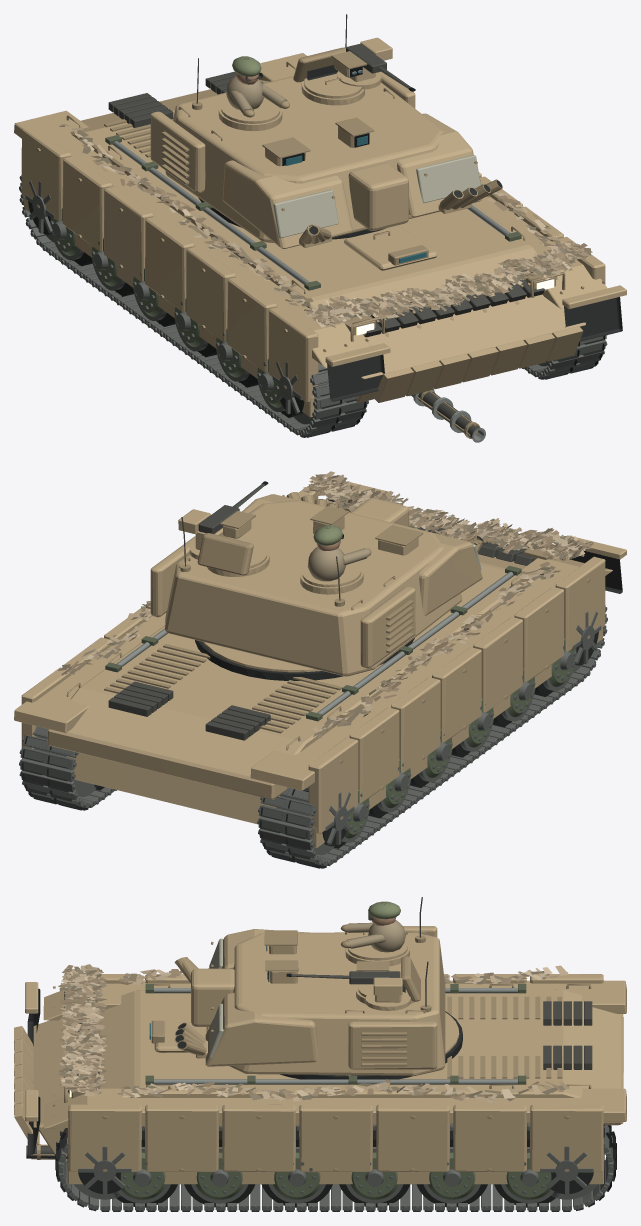
File: challenger.glb
The picture shows the model from 3 angles, top to bottom: view 1: azimuth 30°, elevation 25°; view 2: azimuth 150°, elevation 25°; view 3: azimuth 270°, elevation 25°; orthographic projection. The views are drawn at different scales.
Visible parts, largest first — view 1: body.004, turret.004, tracks.004, body_field_fittings.003, cannon.004; view 2: body.004, turret.004, tracks.004, body_field_fittings.003; view 3: body.004, turret.004, tracks.004, body_field_fittings.003.
Part boxes in pixels (bbox=[...]): body.004: bbox=[14, 53, 626, 417]; turret.004: bbox=[150, 14, 502, 248]; tracks.004: bbox=[19, 175, 607, 437]; body_field_fittings.003: bbox=[105, 71, 521, 290]; cannon.004: bbox=[405, 389, 485, 442]; body.004: bbox=[14, 471, 626, 848]; turret.004: bbox=[150, 481, 484, 680]; tracks.004: bbox=[19, 605, 607, 868]; body_field_fittings.003: bbox=[105, 565, 521, 740]; body.004: bbox=[14, 901, 626, 1184]; turret.004: bbox=[174, 897, 462, 1079]; tracks.004: bbox=[55, 1123, 616, 1211]; body_field_fittings.003: bbox=[145, 984, 592, 1084].
Bounding box in the file's own units: 3.91 × 3.21 × 7.25.
